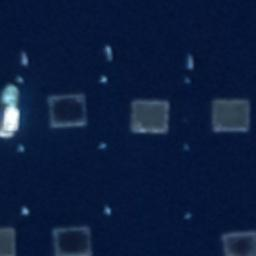square_cover: (41, 90, 93, 137), (206, 92, 254, 138), (125, 94, 174, 137), (47, 221, 98, 256), (218, 224, 256, 255), (1, 223, 24, 256)
